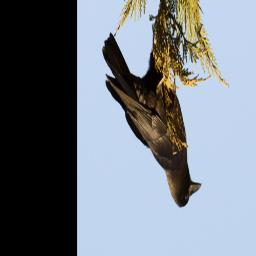Crow: (102, 25, 204, 214)
